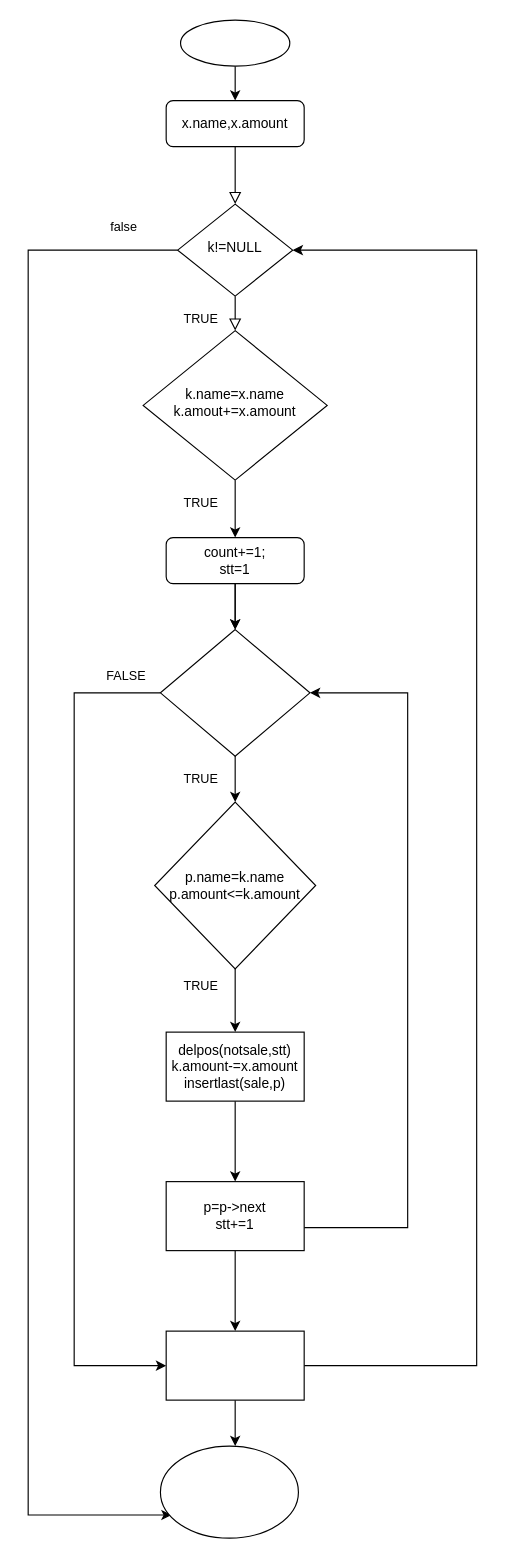
Some shapes in this 506 by 1558 pixel diagram are drawn without their labels. The shapes that lost their labels are listed below. From the top down, each one's centre as x and y in pixels, then its label:
point (234, 42): START
point (234, 692): p!=NULL
point (234, 1365): k=k->next
point (228, 1491): END
